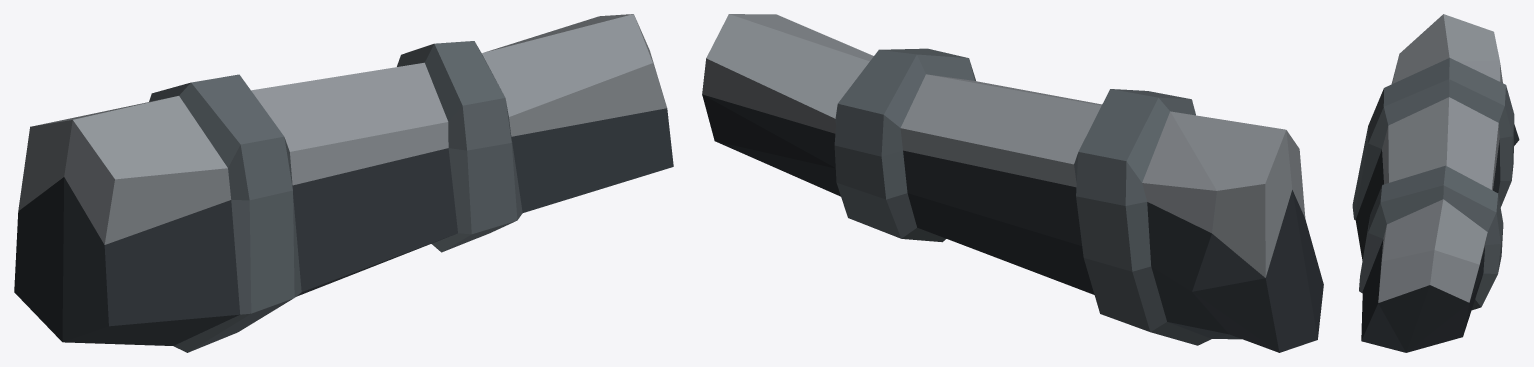
The model's file is Chr_ArmLowerLeft_Female_16_Static.fbx.
3 views of the same model, side by side, from view 1: azimuth 30°, elevation 25°; view 2: azimuth 150°, elevation 25°; view 3: azimuth 270°, elevation 25° (orthographic). The views are drawn at different scales.
Parts seen in each view (by area): view 1: Chr_ArmLowerLeft_Female_16_Static; view 2: Chr_ArmLowerLeft_Female_16_Static; view 3: Chr_ArmLowerLeft_Female_16_Static.
Part boxes in pixels (left/top/right/bottom): Chr_ArmLowerLeft_Female_16_Static: left=14, top=14, right=673, bottom=352; Chr_ArmLowerLeft_Female_16_Static: left=702, top=14, right=1323, bottom=352; Chr_ArmLowerLeft_Female_16_Static: left=1352, top=14, right=1519, bottom=352.
Size of the model in its own units: 0.2903 by 0.1178 by 0.0888.
